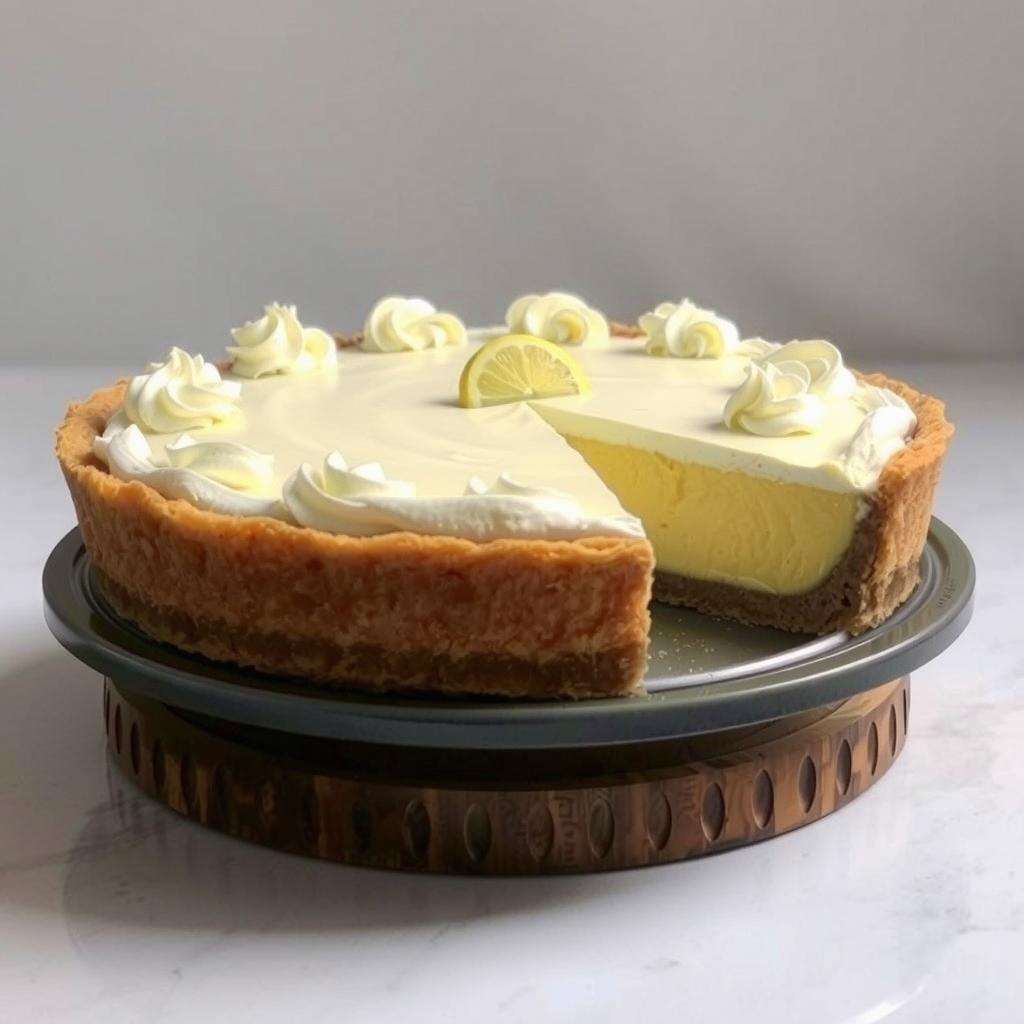pie: (46, 281, 960, 713)
